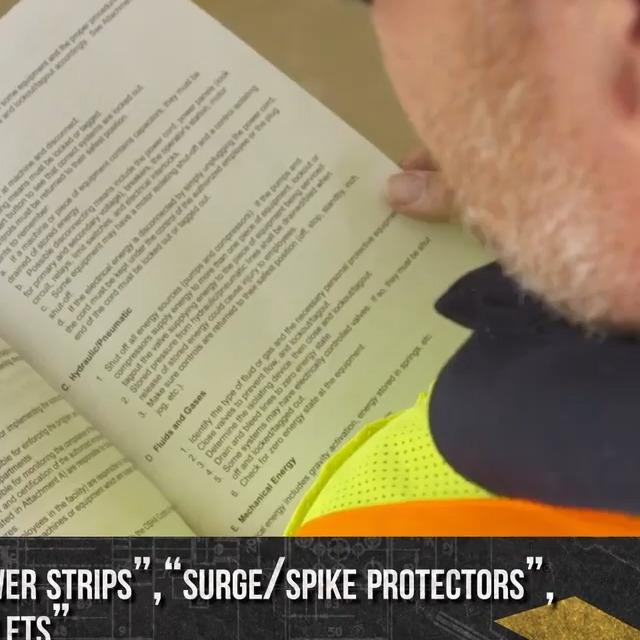NO-Mask: (363, 0, 640, 331)
Person: (287, 0, 640, 536)
Safety Vest: (290, 375, 640, 537)
